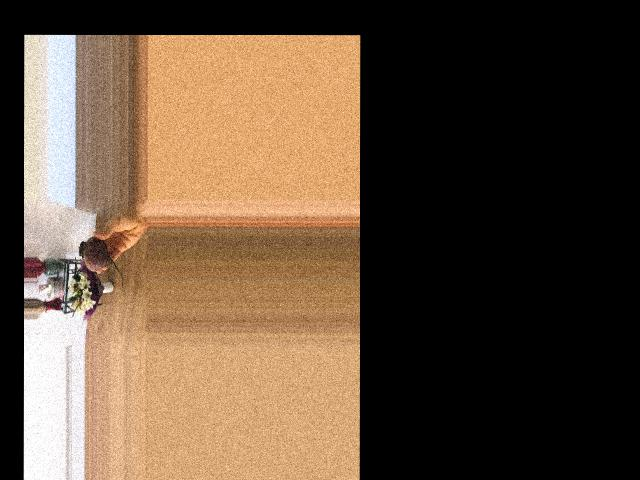beet: (78, 236, 123, 288)
